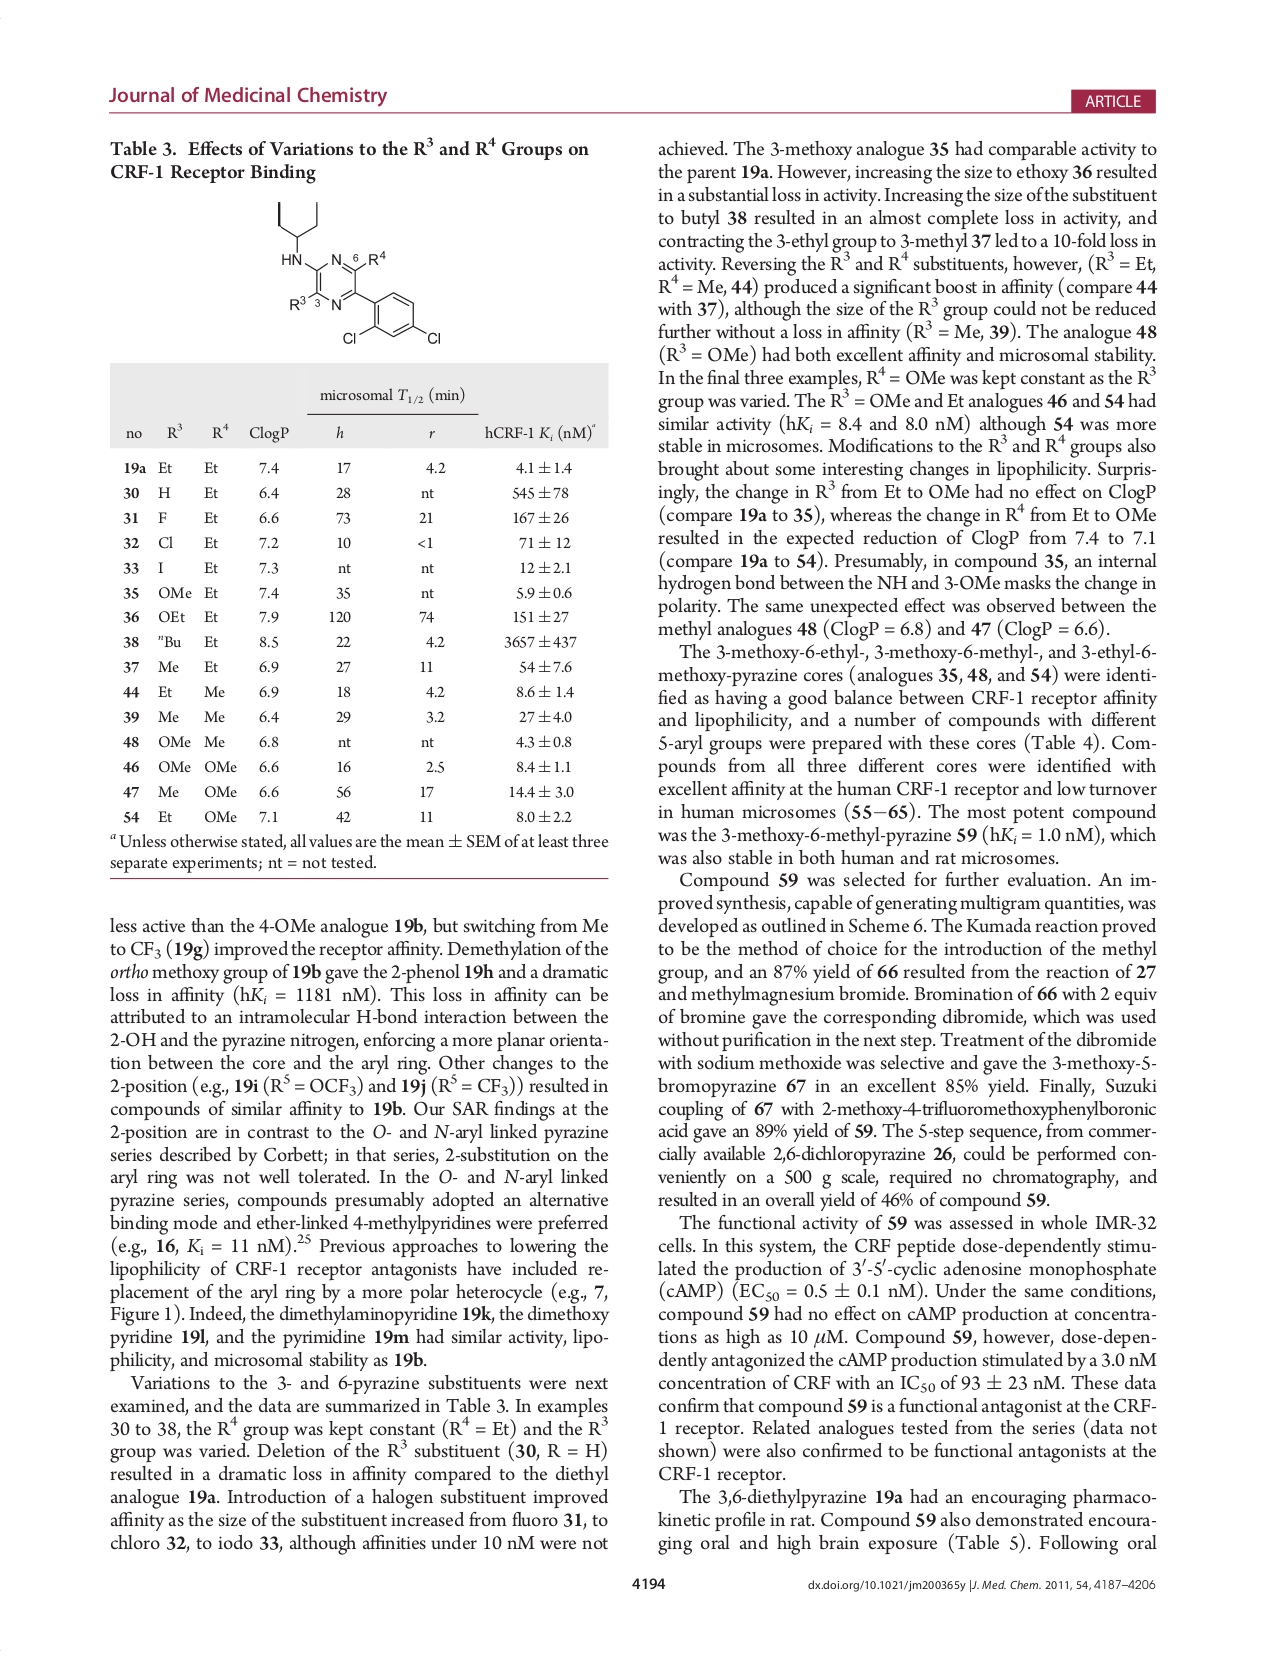exist_molecular: (273, 199, 444, 350)
